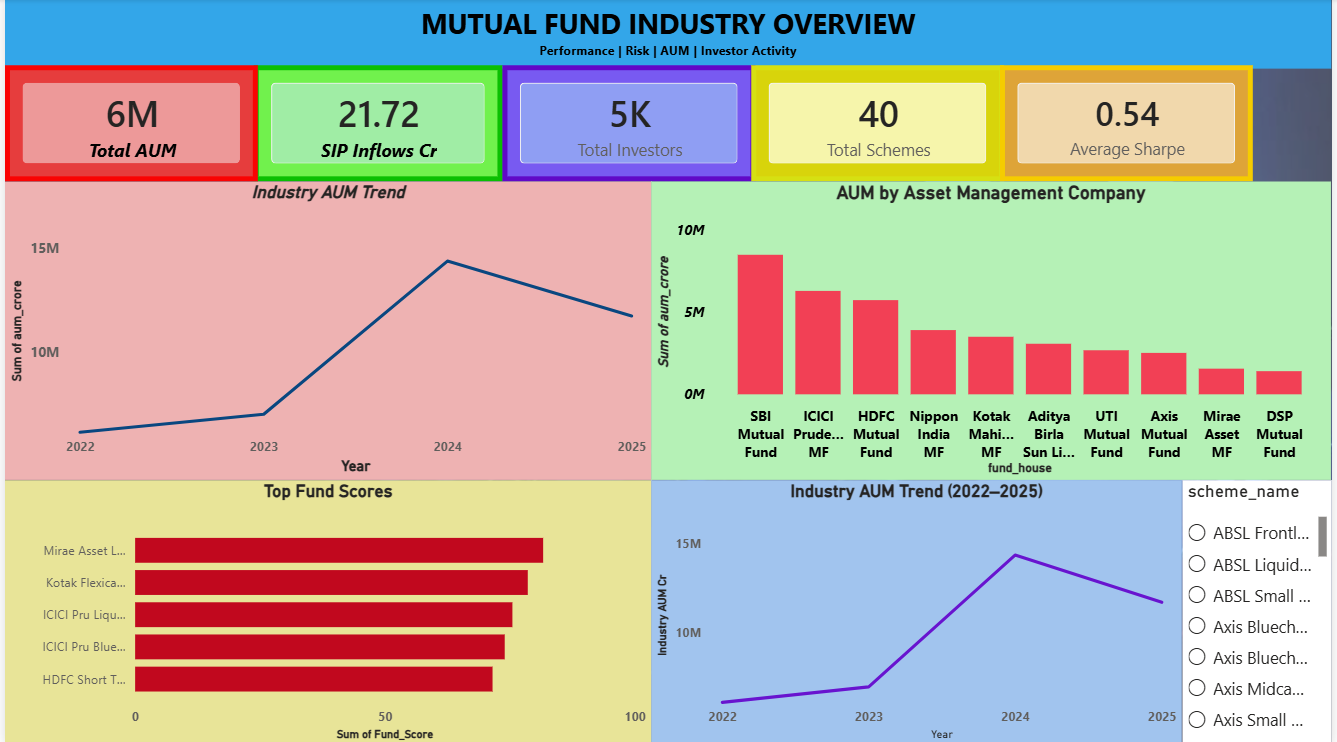

The page's visual inventory and layout, read from the dashboard file:
{"tool":"powerbi","page":{"name":"MUTUAL FUND INDUSTRY OVERVIEW","canvas":[1280,720],"ordinal":0},"visuals":[{"type":"textbox","box":[0,0,240,720],"z":0},{"type":"cardVisual","fields":{"Data":["Alpha_Beta.SIP Inflows Cr"]},"box":[240,112,256,112],"z":1000},{"type":"cardVisual","fields":{"Data":["Alpha_Beta.Total Investors"]},"box":[496,0,272,112],"z":2000},{"type":"cardVisual","fields":{"Data":["Alpha_Beta.Total Schemes"]},"box":[240,0,256,112],"z":3000},{"type":"clusteredColumnChart","title":"AUM by Asset Management Company","fields":{"Category":["Aum_by_Fund_house.fund_house"],"Y":["Sum(Aum_by_Fund_house.aum_crore)"]},"box":[768,368,512,352],"z":4000},{"type":"barChart","title":"Top Fund Scores","fields":{"Category":["Fund_Scorecard.scheme_name"],"Y":["Sum(Fund_Scorecard.Fund_Score)"]},"box":[240,224,528,256],"z":5000},{"type":"cardVisual","fields":{"Data":["Aum_by_Fund_house.Total AUM"]},"box":[496,112,272,112],"z":6000},{"type":"lineChart","title":"Industry AUM Trend (2022–2025)","fields":{"Category":["Aum_by_Fund_house.date.Variation.Date Hierarchy.Year","Aum_by_Fund_house.date.Variation.Date Hierarchy.Quarter","Aum_by_Fund_house.date.Variation.Date Hierarchy.Month","Aum_by_Fund_house.date.Variation.Date Hierarchy.Day"],"Y":["Aum_by_Fund_house.Industry AUM Cr"]},"box":[768,0,512,368],"z":7000},{"type":"slicer","fields":{"Values":["benchmark_summary.scheme_name"]},"box":[0,288,240,64],"z":8000},{"type":"donutChart","title":"Risk_Grade Distribution ","fields":{"Category":["Scheme_Performance.risk_grade"],"Y":["CountNonNull(Scheme_Performance.risk_grade)"]},"box":[240,480,528,240],"z":9000}]}

Visuals, with their boxes in screenshot pixels (x1, y1, x2, y2), scaled from the page's 1280x720 canvas onto the 1337x742 screenshot:
textbox: {"x1": 0, "y1": 0, "x2": 251, "y2": 741}
cardVisual - Alpha_Beta.SIP Inflows Cr: {"x1": 251, "y1": 115, "x2": 518, "y2": 231}
cardVisual - Alpha_Beta.Total Investors: {"x1": 518, "y1": 0, "x2": 802, "y2": 115}
cardVisual - Alpha_Beta.Total Schemes: {"x1": 251, "y1": 0, "x2": 518, "y2": 115}
"AUM by Asset Management Company" clusteredColumnChart: {"x1": 802, "y1": 379, "x2": 1336, "y2": 741}
"Top Fund Scores" barChart: {"x1": 251, "y1": 231, "x2": 802, "y2": 495}
cardVisual - Aum_by_Fund_house.Total AUM: {"x1": 518, "y1": 115, "x2": 802, "y2": 231}
"Industry AUM Trend (2022–2025)" lineChart: {"x1": 802, "y1": 0, "x2": 1336, "y2": 379}
slicer - benchmark_summary.scheme_name: {"x1": 0, "y1": 297, "x2": 251, "y2": 363}
"Risk_Grade Distribution " donutChart: {"x1": 251, "y1": 495, "x2": 802, "y2": 741}
